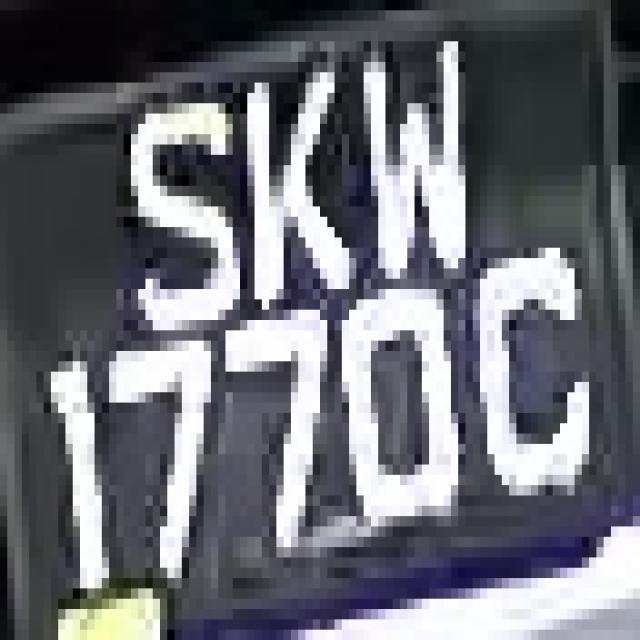0: (306, 278, 466, 568)
1: (44, 330, 131, 620)
7: (211, 248, 349, 609), (87, 310, 233, 619)
C: (466, 227, 618, 537)
K: (211, 21, 349, 330)
S: (102, 72, 254, 341)
W: (342, 21, 480, 299)
